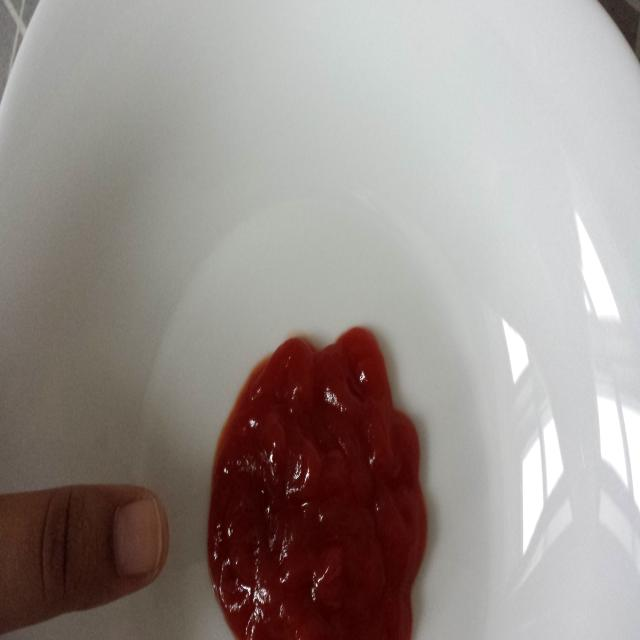sauce: (206, 324, 429, 637)
